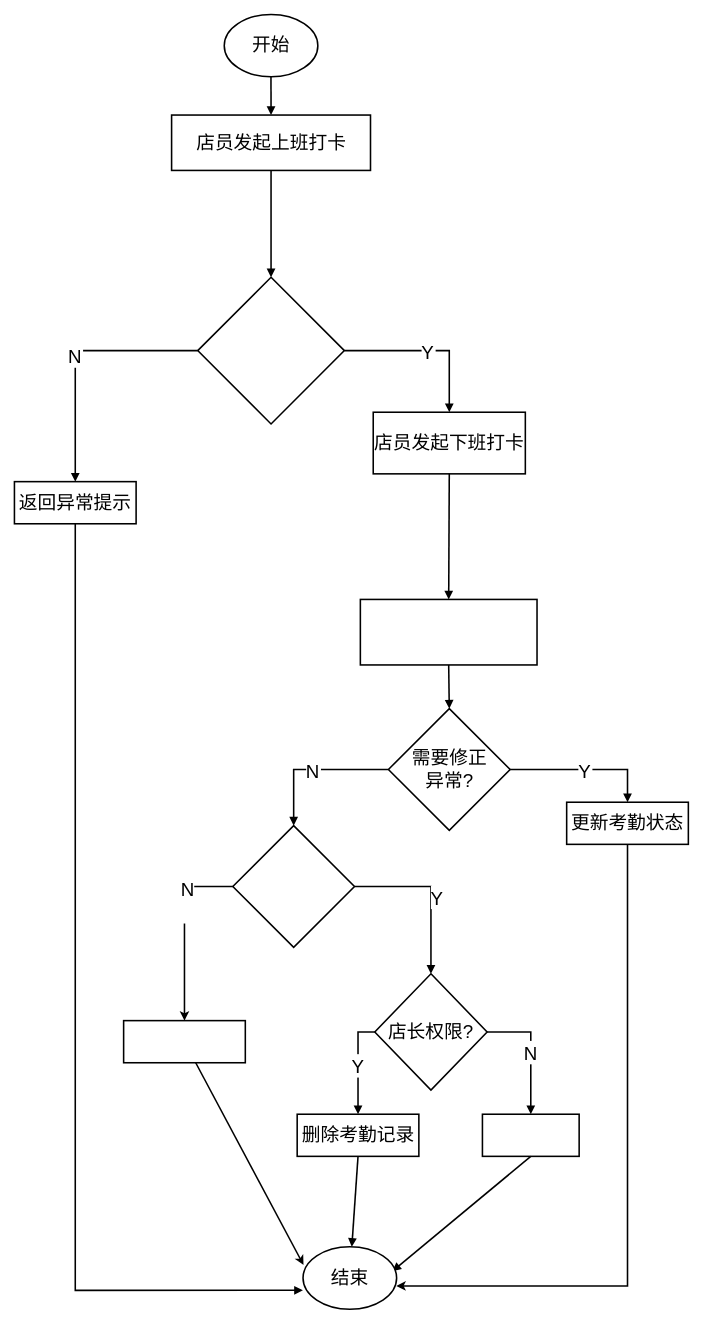
Image size: 702x1323. Some labels were removed from this diagram. The centre of each missing label's shape, as x and y in pixels:
展示考勤数据: the point at 184,1041
店长查询 考勤列表/统计: the point at 448,631
打卡规则 校验通过?: the point at 271,350
拒绝删除: the point at 530,1135
需要删除 记录?: the point at 293,886
